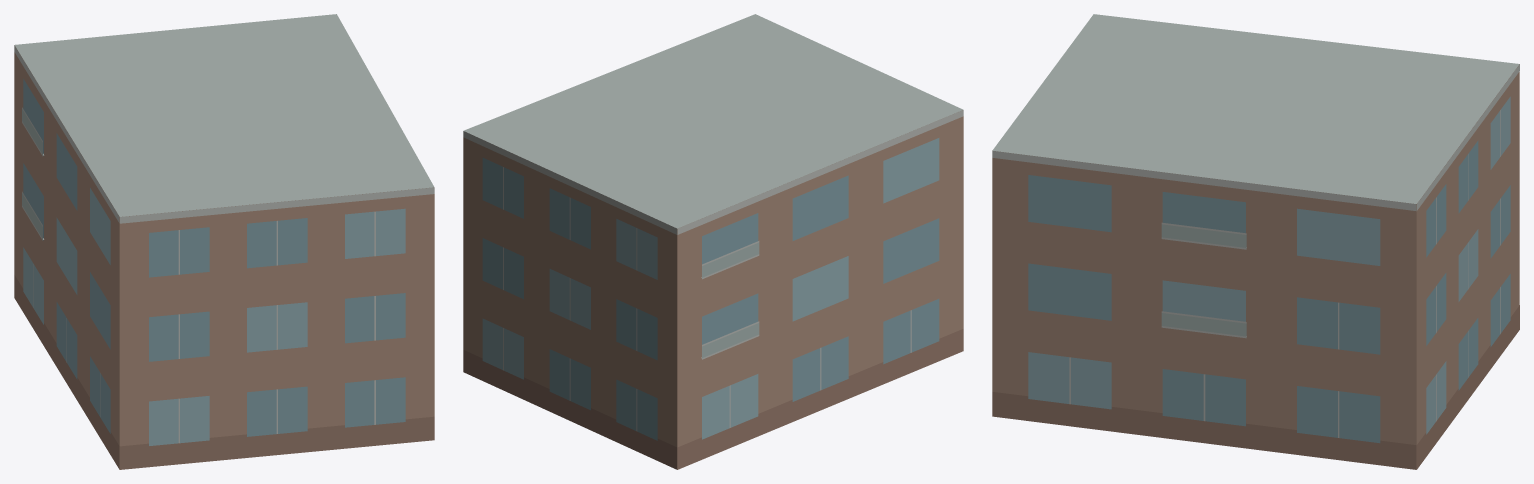
Rendered from survey-upis-32702924.glb.
3 renders of one model, left to right at view 1: azimuth 30°, elevation 25°; view 2: azimuth 150°, elevation 25°; view 3: azimuth 270°, elevation 25°, orthographic. The views are drawn at different scales.
Visible parts, largest first — view 1: survey-upis-32702924.tmp; view 2: survey-upis-32702924.tmp; view 3: survey-upis-32702924.tmp.
Boxes of the visible parts, bbox=[...] form: survey-upis-32702924.tmp: bbox=[14, 14, 434, 469]; survey-upis-32702924.tmp: bbox=[463, 14, 963, 469]; survey-upis-32702924.tmp: bbox=[992, 14, 1519, 469].
Bounding box in the file's own units: 14.05 × 9.15 × 16.47.
